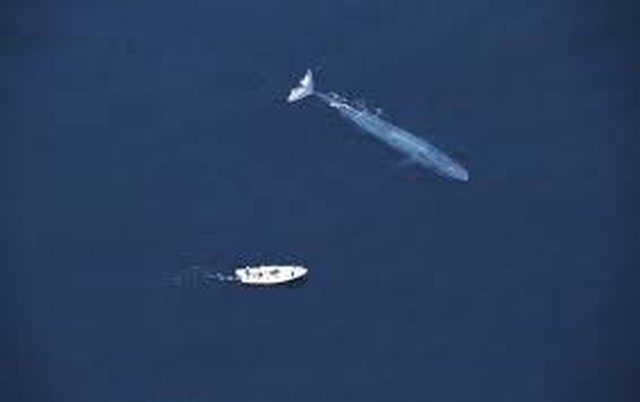whale: (275, 62, 477, 190)
